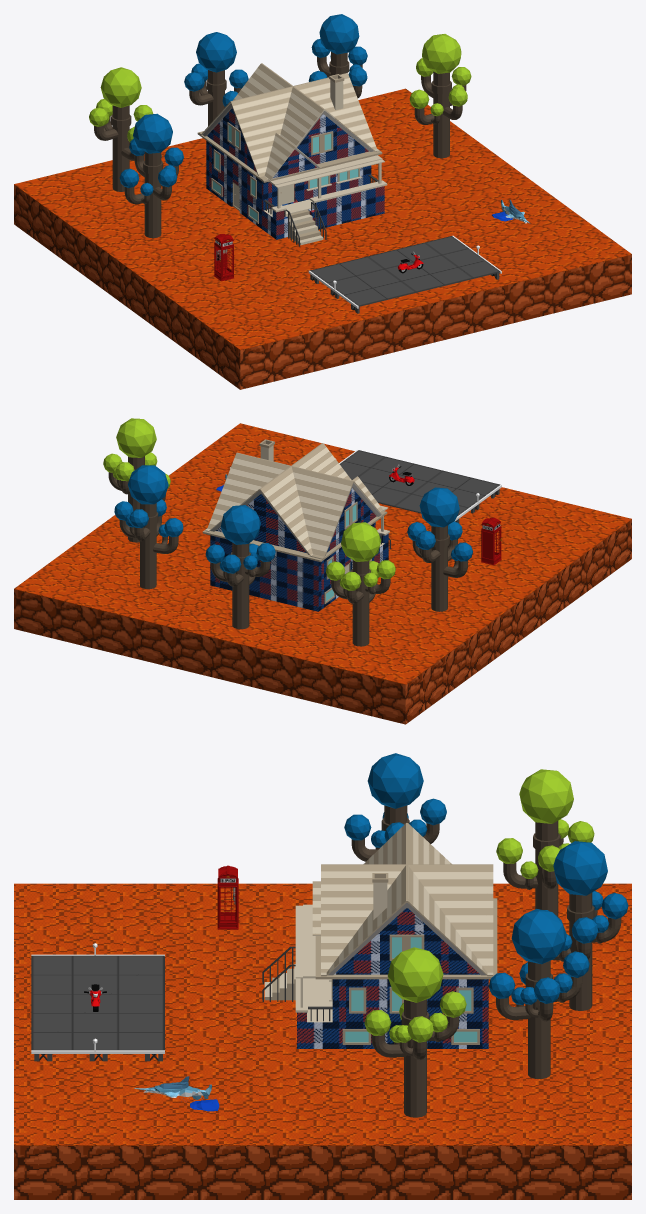
The picture shows the model from 3 angles, top to bottom: view 1: azimuth 30°, elevation 25°; view 2: azimuth 150°, elevation 25°; view 3: azimuth 270°, elevation 25°; orthographic projection. The views are drawn at different scales.
Visible parts, largest first — view 1: Cube.001, Cube.171, OBJRANDOM_PHONEBOOTH; view 2: Cube.001, Cube.171, OBJRANDOM_PHONEBOOTH; view 3: Cube.001, Cube.171, OBJRANDOM_PHONEBOOTH, ANIMAL_PEZ_ESPADA.
Part boxes in pixels (x1,y1,x2,y2): Cube.001: (14,14,631,389); Cube.171: (197,63,387,246); OBJRANDOM_PHONEBOOTH: (213,234,233,281); Cube.001: (14,418,631,724); Cube.171: (202,439,390,611); OBJRANDOM_PHONEBOOTH: (481,517,501,565); Cube.001: (14,753,631,1199); Cube.171: (262,823,497,1048); OBJRANDOM_PHONEBOOTH: (217,865,238,929); ANIMAL_PEZ_ESPADA: (134,1076,219,1111).
Bounding box in the file's own units: 4000 × 1765 × 4000.
Materials: 39 (5 with a texture image).
